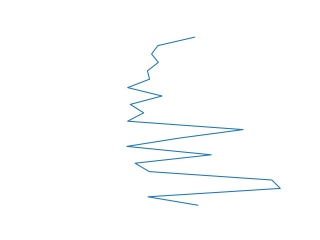crevasseRiverBedLagDeposit: (122, 34, 285, 209)
